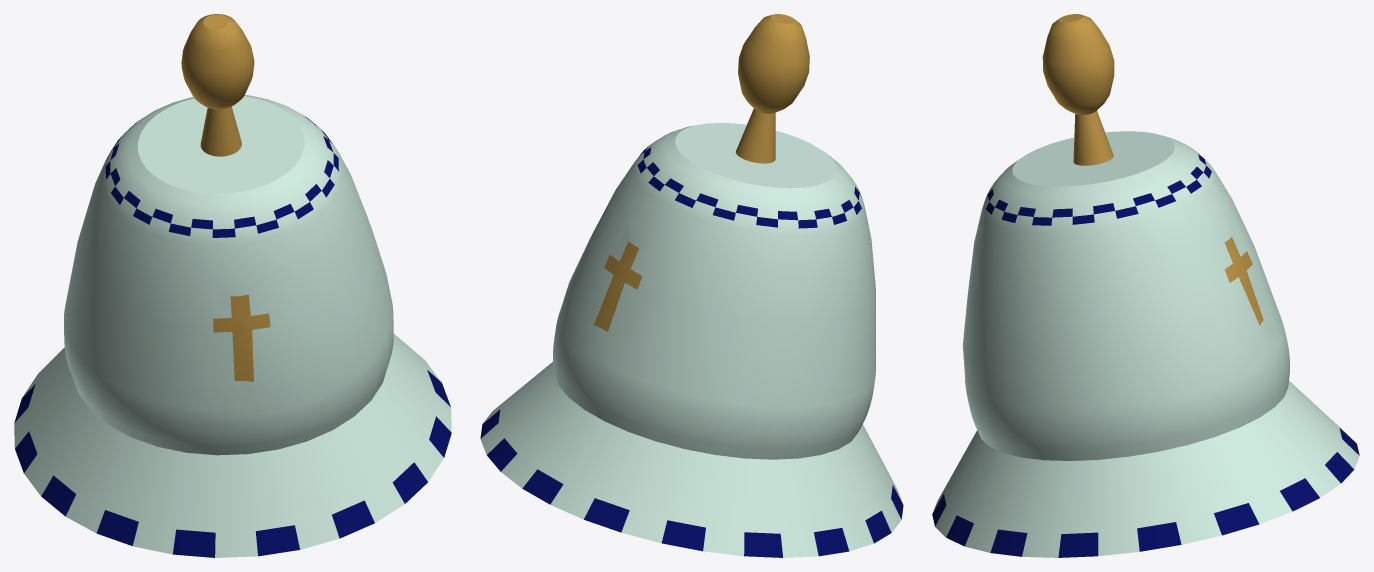
The model's file is BendiciónDelClerigo.fbx.
3 views of the same model, side by side, from view 1: azimuth 30°, elevation 25°; view 2: azimuth 150°, elevation 25°; view 3: azimuth 270°, elevation 25° (orthographic).
Visible parts, largest first — view 1: Cylinder; view 2: Cylinder; view 3: Cylinder.
Boxes of the visible parts, left/top/right/bottom form: Cylinder: left=14, top=14, right=451, bottom=557; Cylinder: left=480, top=14, right=903, bottom=557; Cylinder: left=932, top=14, right=1359, bottom=557.
Size of the model in its own units: 49.81 by 62.27 by 49.61.
